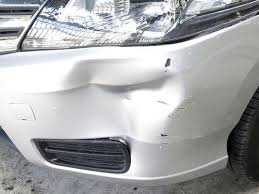Dent: (47, 55, 189, 140)
Scratch: (159, 101, 188, 148)
